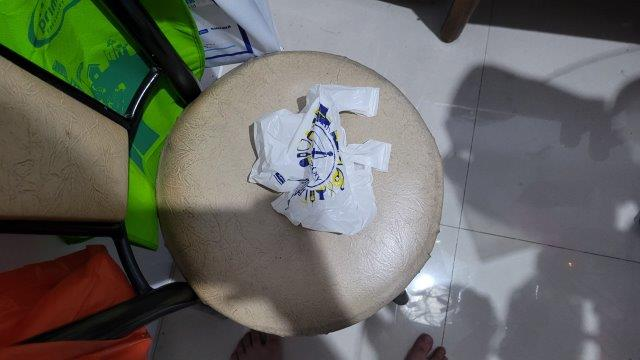plastik: (251, 86, 392, 237)
